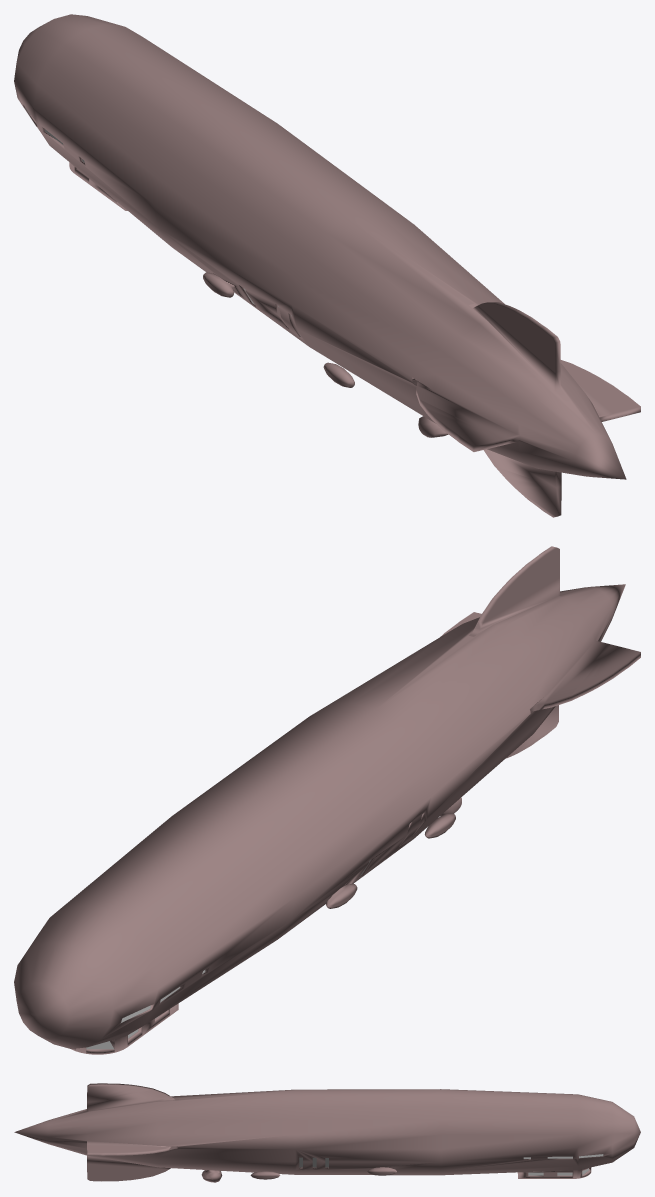
File: Zep.obj
3 renders of one model, top to bottom at view 1: azimuth 30°, elevation 25°; view 2: azimuth 150°, elevation 25°; view 3: azimuth 270°, elevation 25°, orthographic. The views are drawn at different scales.
Parts seen in each view (by area): view 1: silver01; view 2: silver01; view 3: silver01, black_matte01.
Part boxes in pixels (box(x1,y1,x2,y2)): silver01: box(14, 14, 640, 517); silver01: box(14, 546, 640, 1054); silver01: box(14, 1083, 640, 1182); black_matte01: box(299, 1154, 603, 1175).
Size of the model in its own units: 366 by 378 by 2209.
